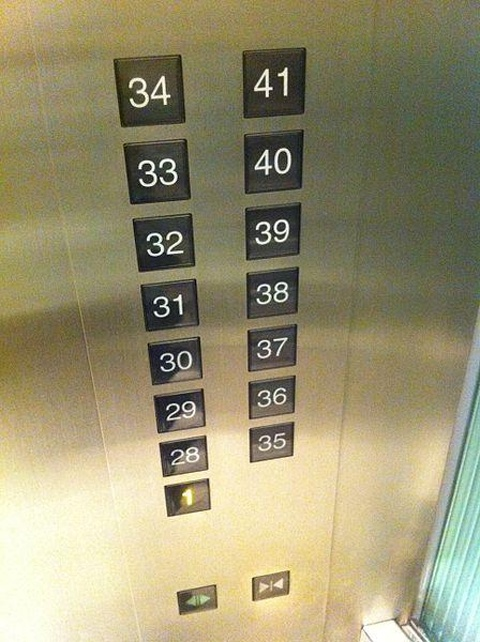1: (163, 480, 212, 518)
28: (159, 437, 208, 479)
29: (154, 389, 206, 436)
30: (146, 337, 203, 386)
31: (139, 279, 199, 332)
32: (130, 213, 196, 273)
33: (122, 138, 190, 208)
34: (113, 53, 187, 127)
35: (249, 421, 295, 464)
36: (247, 374, 296, 420)
37: (245, 321, 298, 373)
38: (246, 267, 302, 321)
39: (244, 199, 303, 263)
40: (243, 129, 303, 194)
41: (243, 47, 306, 121)
close: (252, 571, 291, 603)
open: (176, 584, 219, 615)
